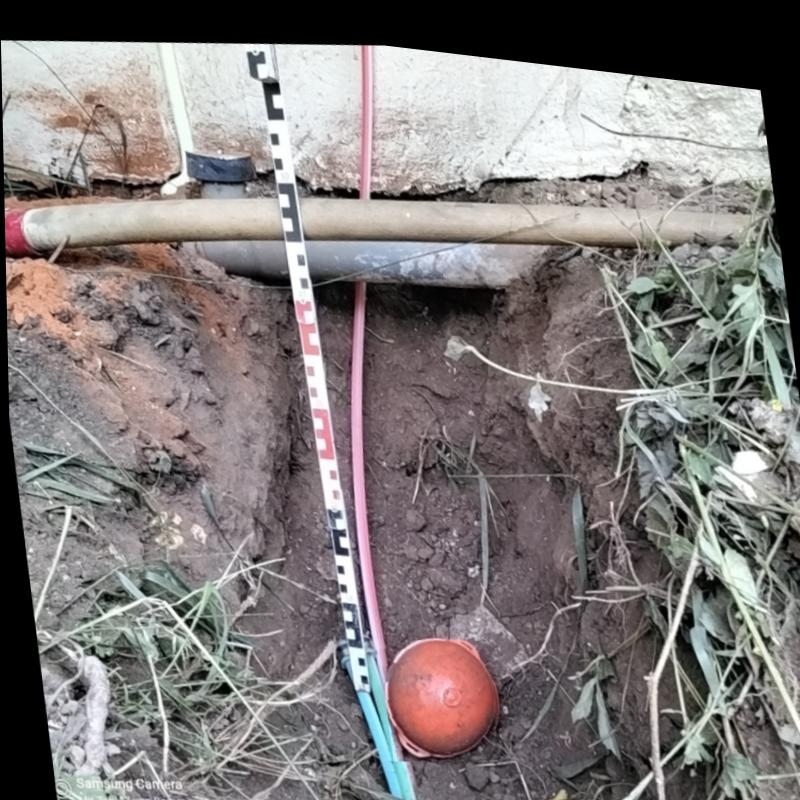Kugelmarker: (381, 630, 491, 751)
